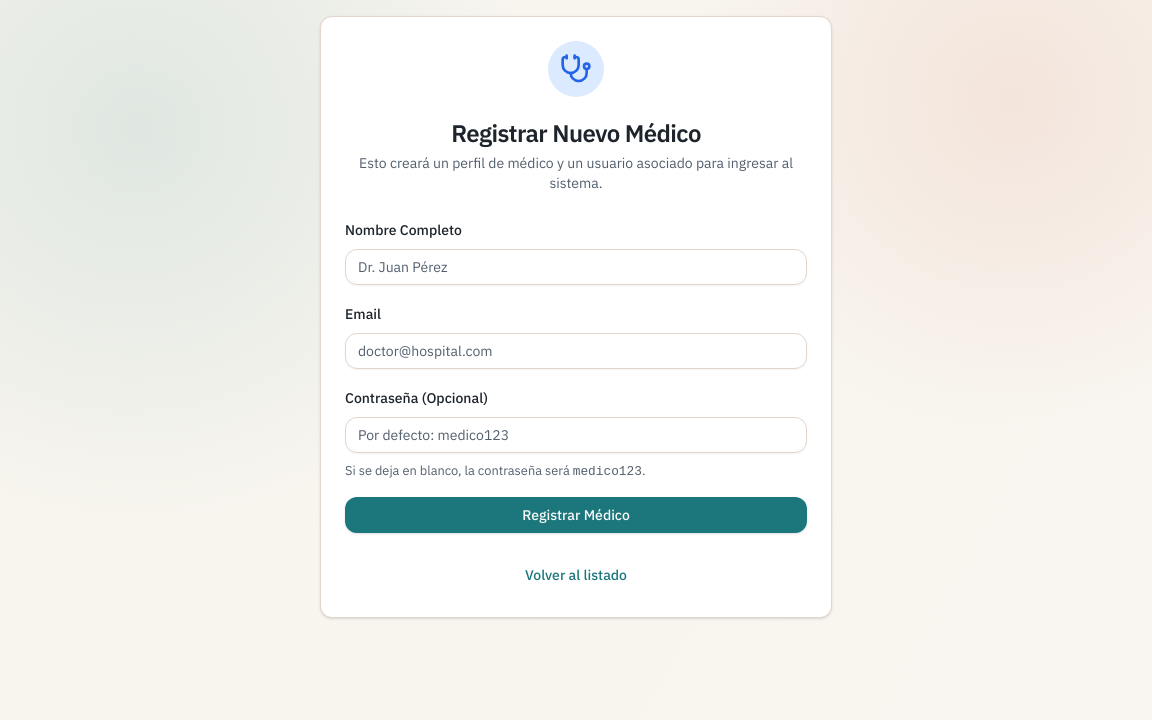
Test: CreateMedicoPage › shows validation errors for invalid inputs
This screenshot has width=1152, height=720.
Click the button "Registrar Médico" at [576, 515], box [345,497,807,533]
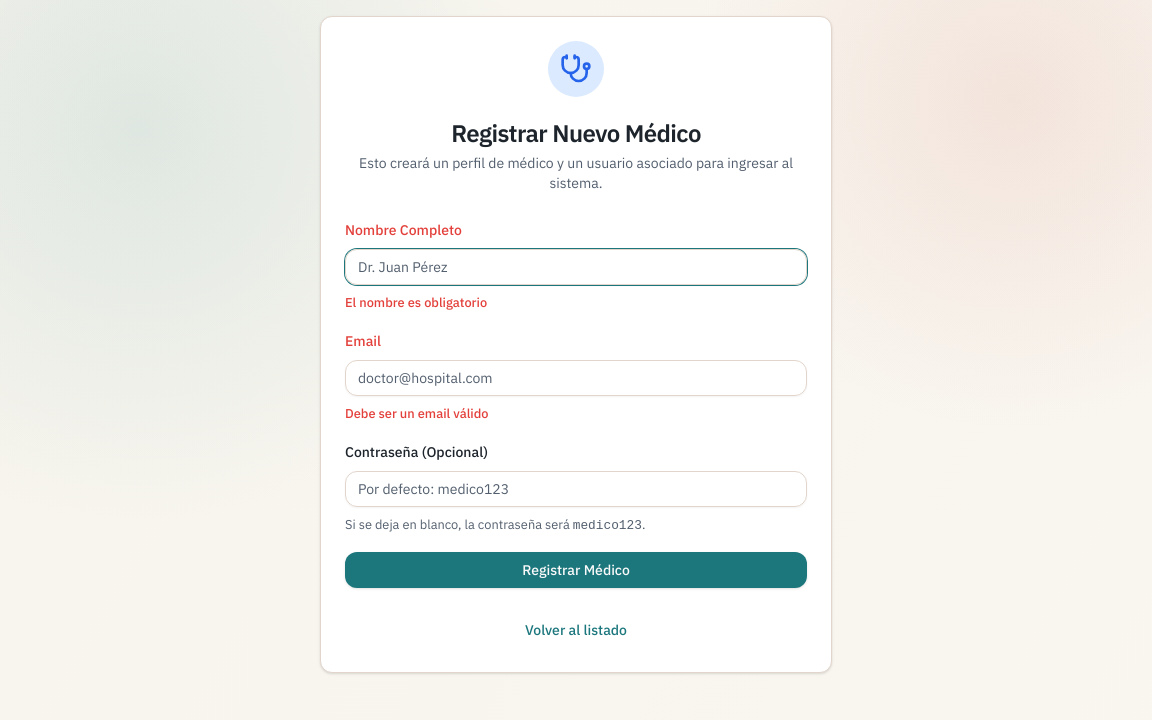
Check: the text "El nombre es obligatorio" is shown, box [345,294,487,311]
Check: the text "Debe ser un email válido" is shown, box [345,405,488,422]
Type "123" into the password field labelled "Contraseña (Opcional)" at [576, 489], box [345,471,807,507]
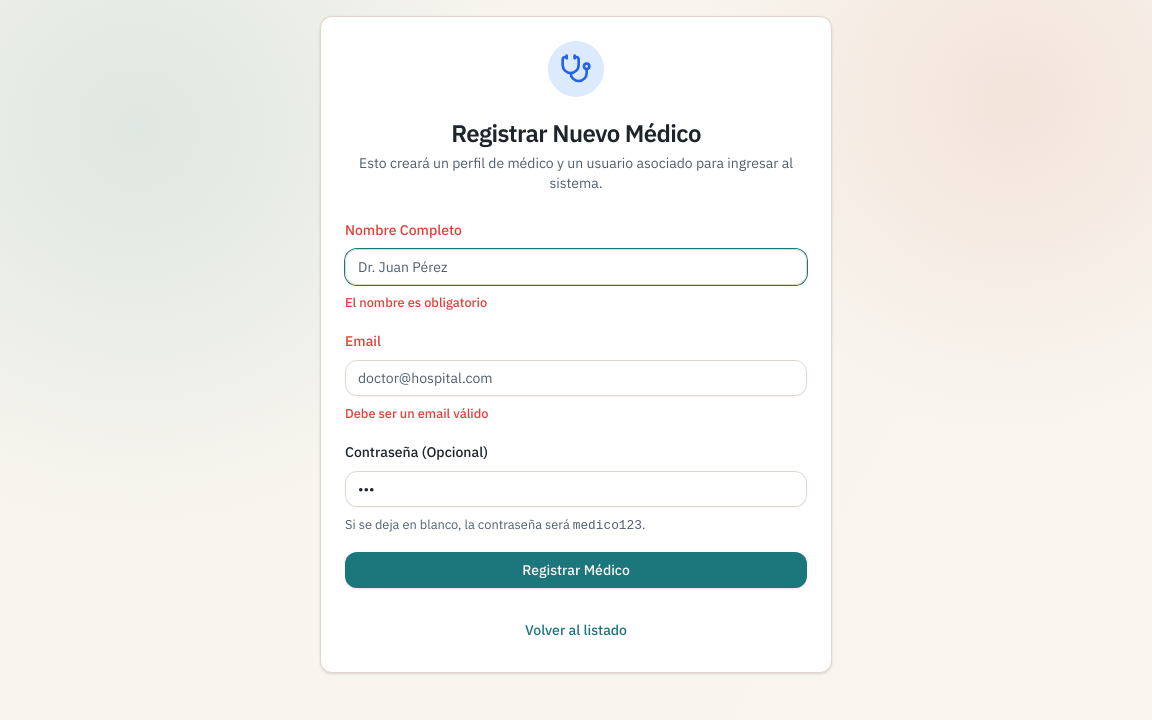
Click the button "Registrar Médico" at [576, 570], box [345,552,807,588]
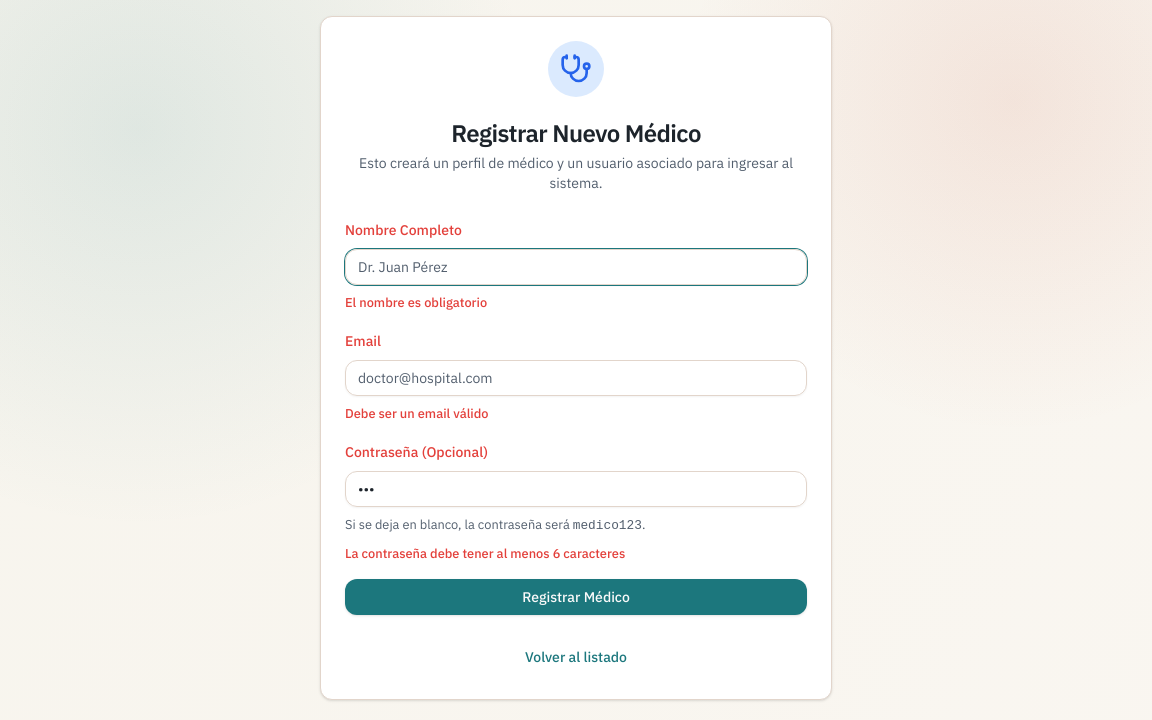
Check: the text "La contraseña debe tener al menos 6 caracteres" is shown, box [345,545,625,562]
